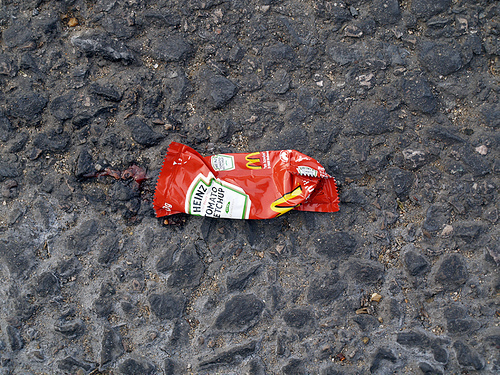litter: (152, 142, 342, 217)
